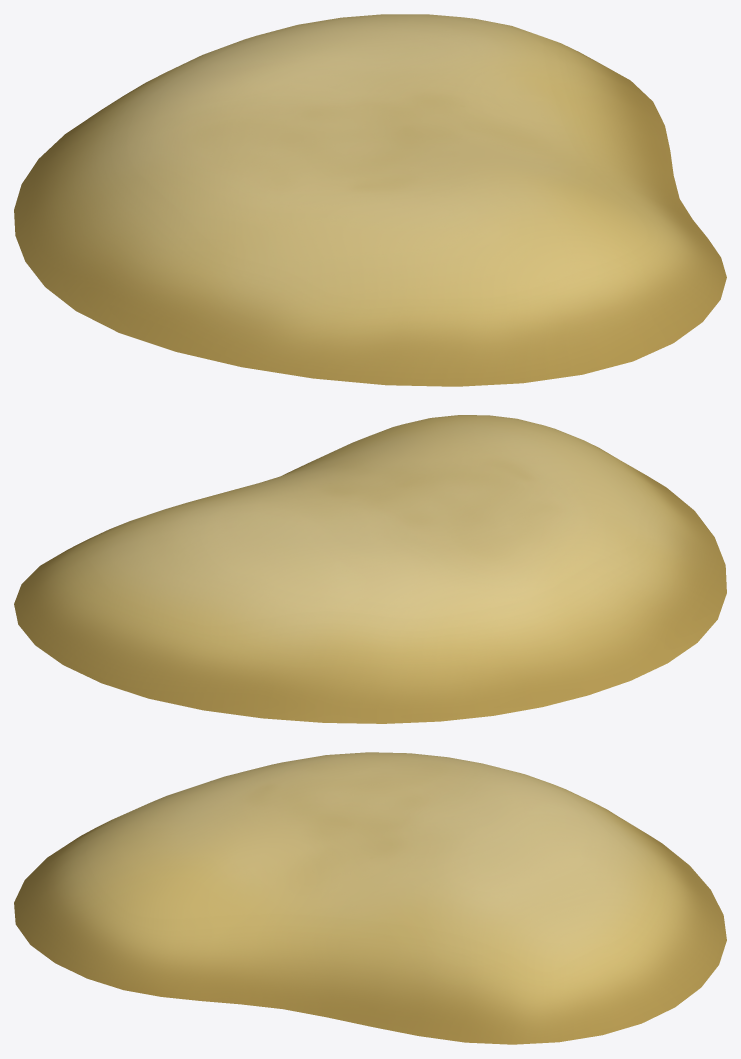
Rendered from Island.FBX.
3 views of the same model, one above another, from view 1: azimuth 30°, elevation 25°; view 2: azimuth 150°, elevation 25°; view 3: azimuth 270°, elevation 25° (orthographic). The views are drawn at different scales.
Visible parts, largest first — view 1: Island; view 2: Island; view 3: Island.
Part boxes in pixels (x1,y1,x2,y2): Island: (14, 14, 726, 386); Island: (14, 415, 726, 723); Island: (14, 752, 726, 1044).
Bounding box in the file's own units: 741 × 110 × 813.
